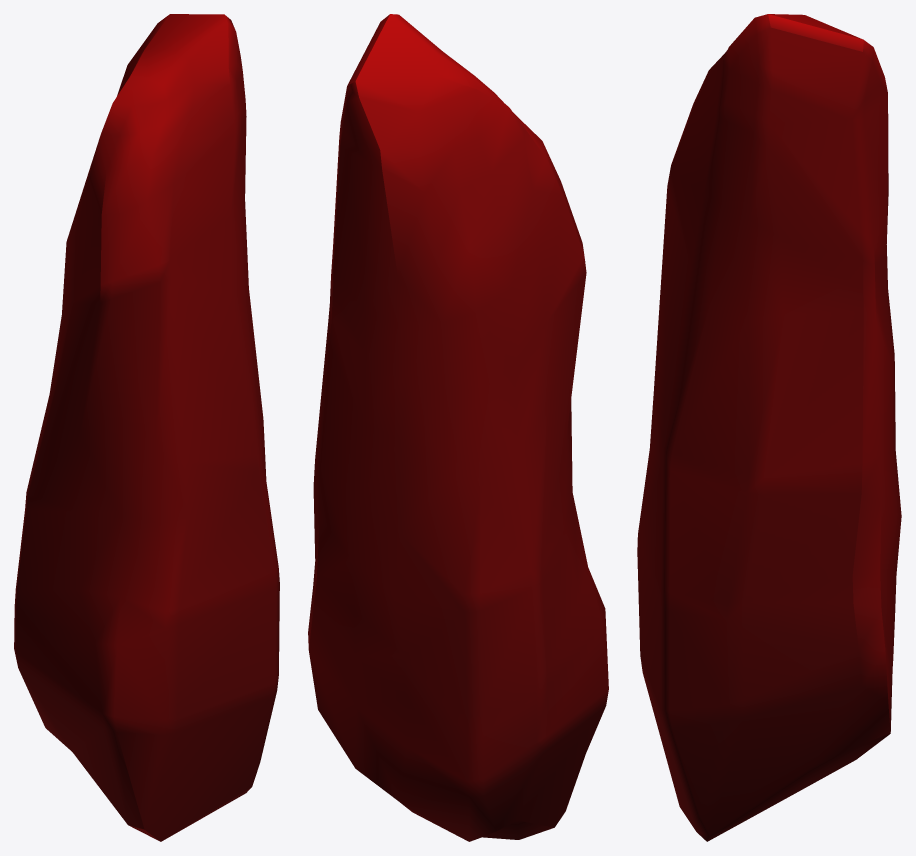
File: geology-carvedstone-monolith_v9.fbx
The picture shows the model from 3 angles, left to right: view 1: azimuth 30°, elevation 25°; view 2: azimuth 150°, elevation 25°; view 3: azimuth 270°, elevation 25°; orthographic projection. The views are drawn at different scales.
Visible parts, largest first — view 1: Monolith_v9; view 2: Monolith_v9; view 3: Monolith_v9.
Part boxes in pixels (x1=…): Monolith_v9: x1=14, y1=14, x2=279, y2=841; Monolith_v9: x1=308, y1=14, x2=608, y2=841; Monolith_v9: x1=637, y1=14, x2=901, y2=841.
Bounding box in the file's own units: 2.04 × 7.05 × 1.99.
